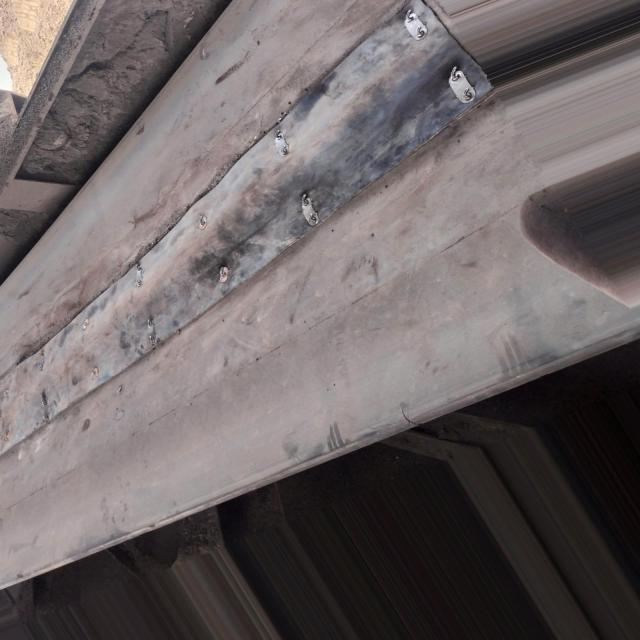patch work: (0, 0, 519, 486)
